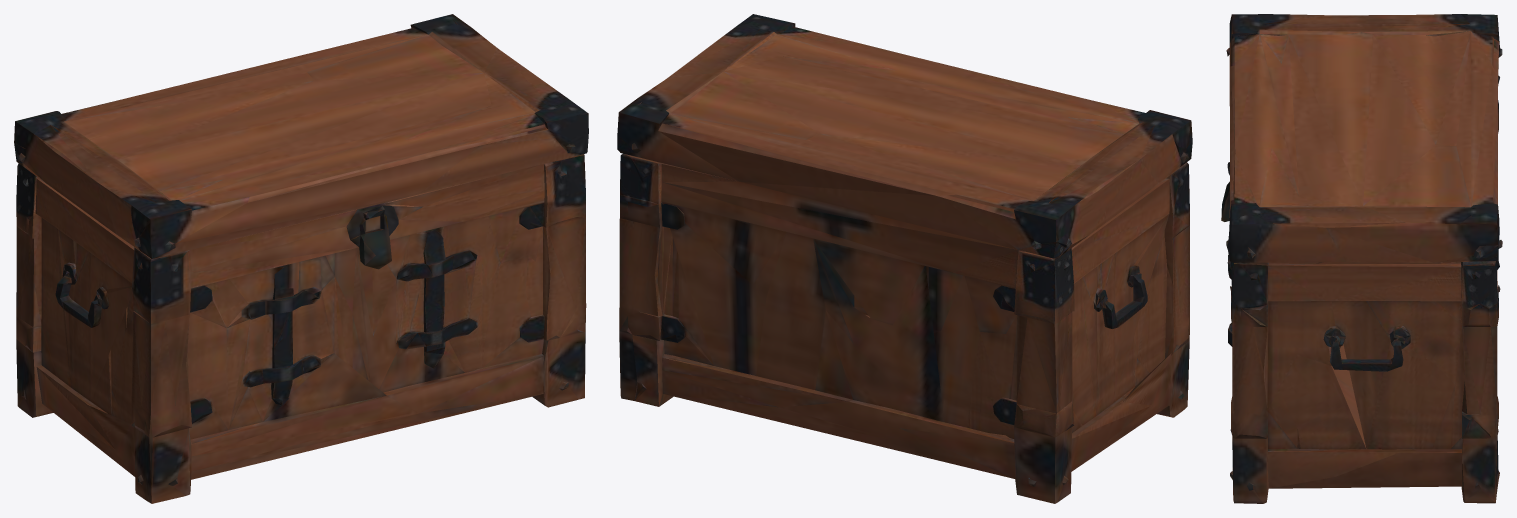
File: chest.glb
3 views of the same model, side by side, from view 1: azimuth 30°, elevation 25°; view 2: azimuth 150°, elevation 25°; view 3: azimuth 270°, elevation 25° (orthographic).
Visible parts, largest first — view 1: chest; view 2: chest; view 3: chest.
Boxes of the visible parts, <box> form: chest: <box>14,14,588,503</box>; chest: <box>617,14,1192,503</box>; chest: <box>1221,14,1502,503</box>.
Size of the model in its own units: 0.95 by 0.58 by 0.52.
1 material, 1 textured.
